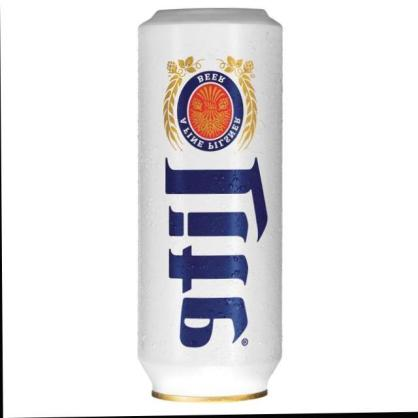can: (134, 9, 287, 404)
